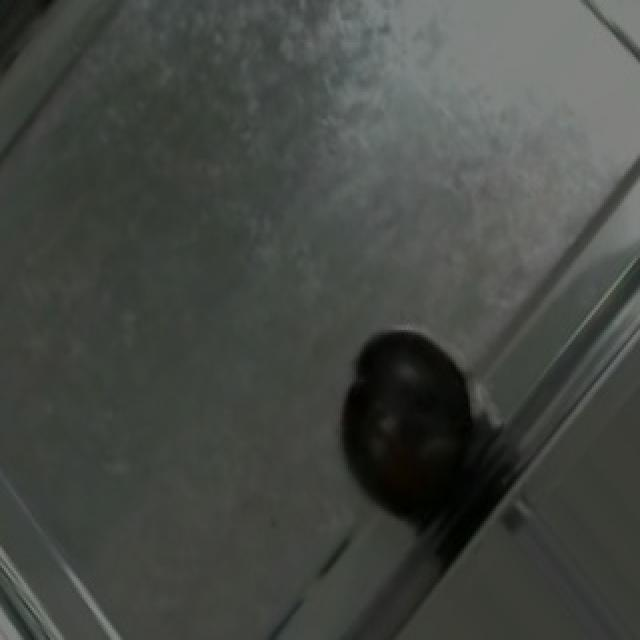Fruit: (330, 307, 498, 524)
